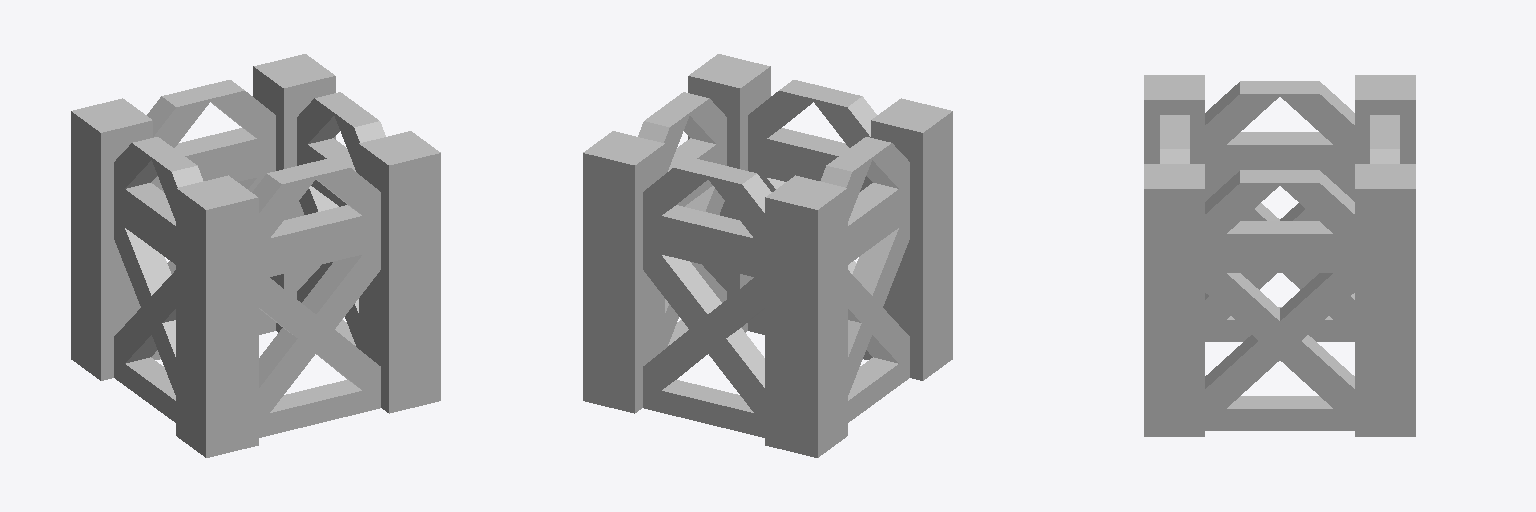
The model's file is launchertowerblock.obj.
3 renders of one model, left to right at view 1: azimuth 30°, elevation 25°; view 2: azimuth 150°, elevation 25°; view 3: azimuth 270°, elevation 25°, orthographic.
Parts seen in each view (by area): view 1: SmallSilo; view 2: SmallSilo; view 3: SmallSilo.
Part boxes in pixels (left/top/right/bottom): SmallSilo: left=71, top=54, right=440, bottom=457; SmallSilo: left=583, top=54, right=952, bottom=457; SmallSilo: left=1144, top=75, right=1415, bottom=436.
Size of the model in its own units: 0.99 by 1 by 0.99.